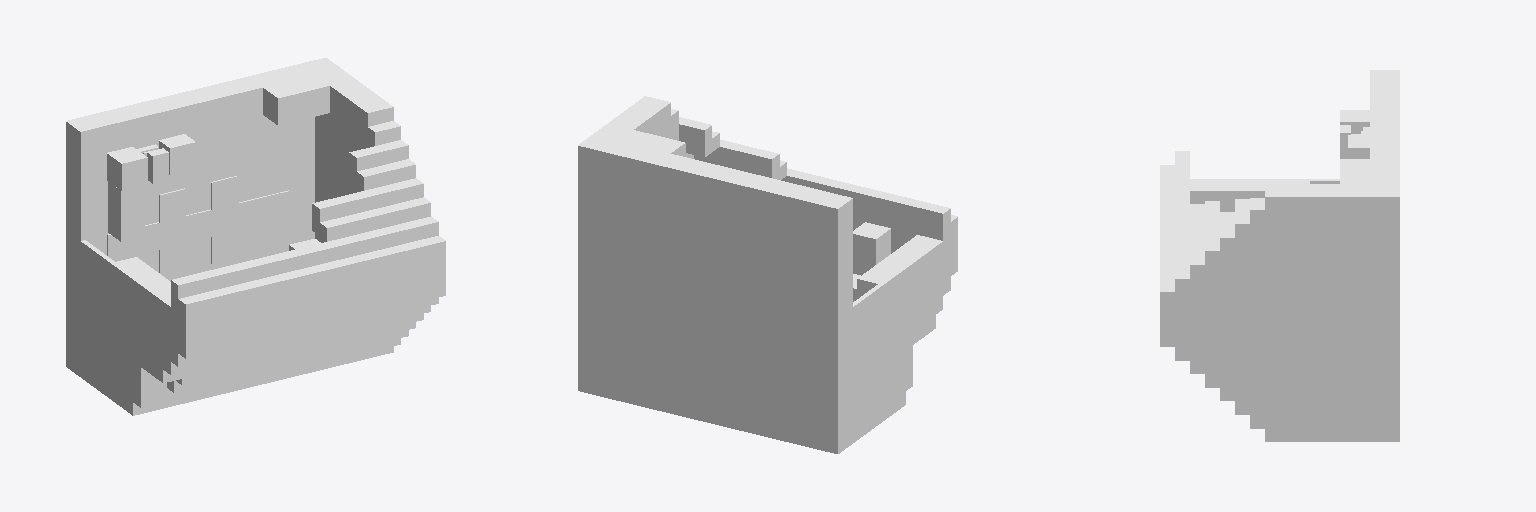
File: all_house.obj
3 views of the same model, side by side, from view 1: azimuth 30°, elevation 25°; view 2: azimuth 150°, elevation 25°; view 3: azimuth 270°, elevation 25° (orthographic).
Visible parts, largest first — view 1: New_World_(1)__-669_64_-139_to_-660_255_-131; view 2: New_World_(1)__-669_64_-139_to_-660_255_-131; view 3: New_World_(1)__-669_64_-139_to_-660_255_-131.
Boxes of the visible parts, box(x1,y1,x2,y2) form: New_World_(1)__-669_64_-139_to_-660_255_-131: box(66, 58, 445, 415); New_World_(1)__-669_64_-139_to_-660_255_-131: box(578, 96, 957, 453); New_World_(1)__-669_64_-139_to_-660_255_-131: box(1160, 70, 1399, 441).
Size of the model in its own units: 10 by 9 by 8.